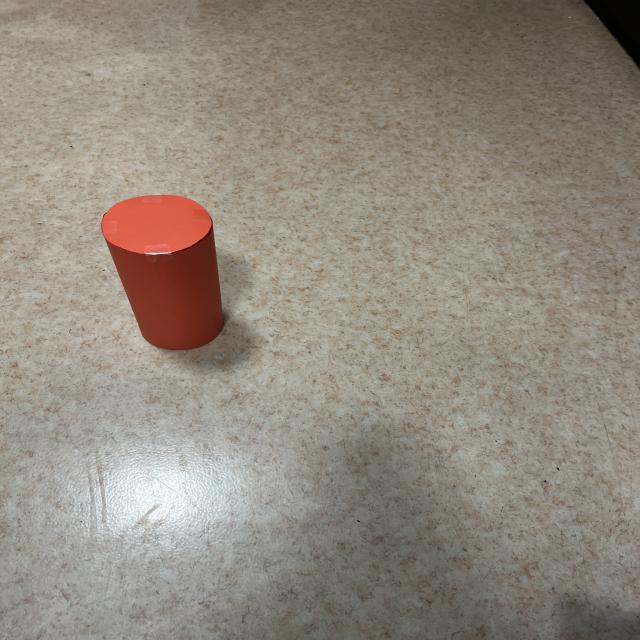przeszkoda: (101, 195, 223, 350)
